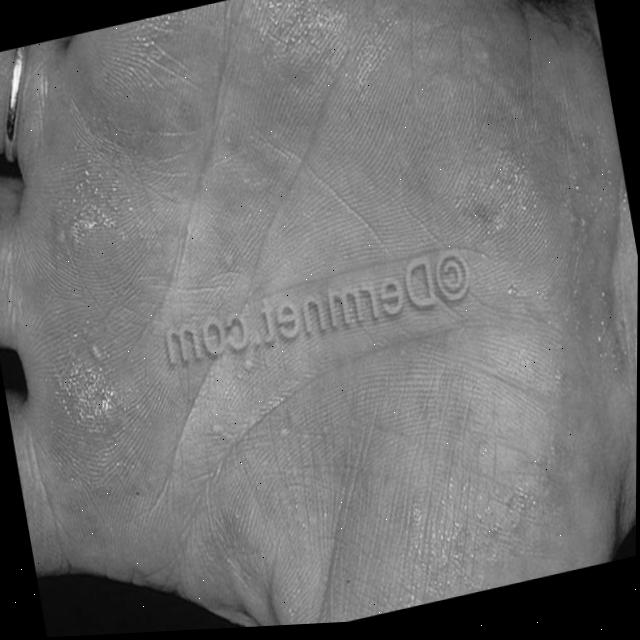Eczema: (5, 0, 506, 568)
